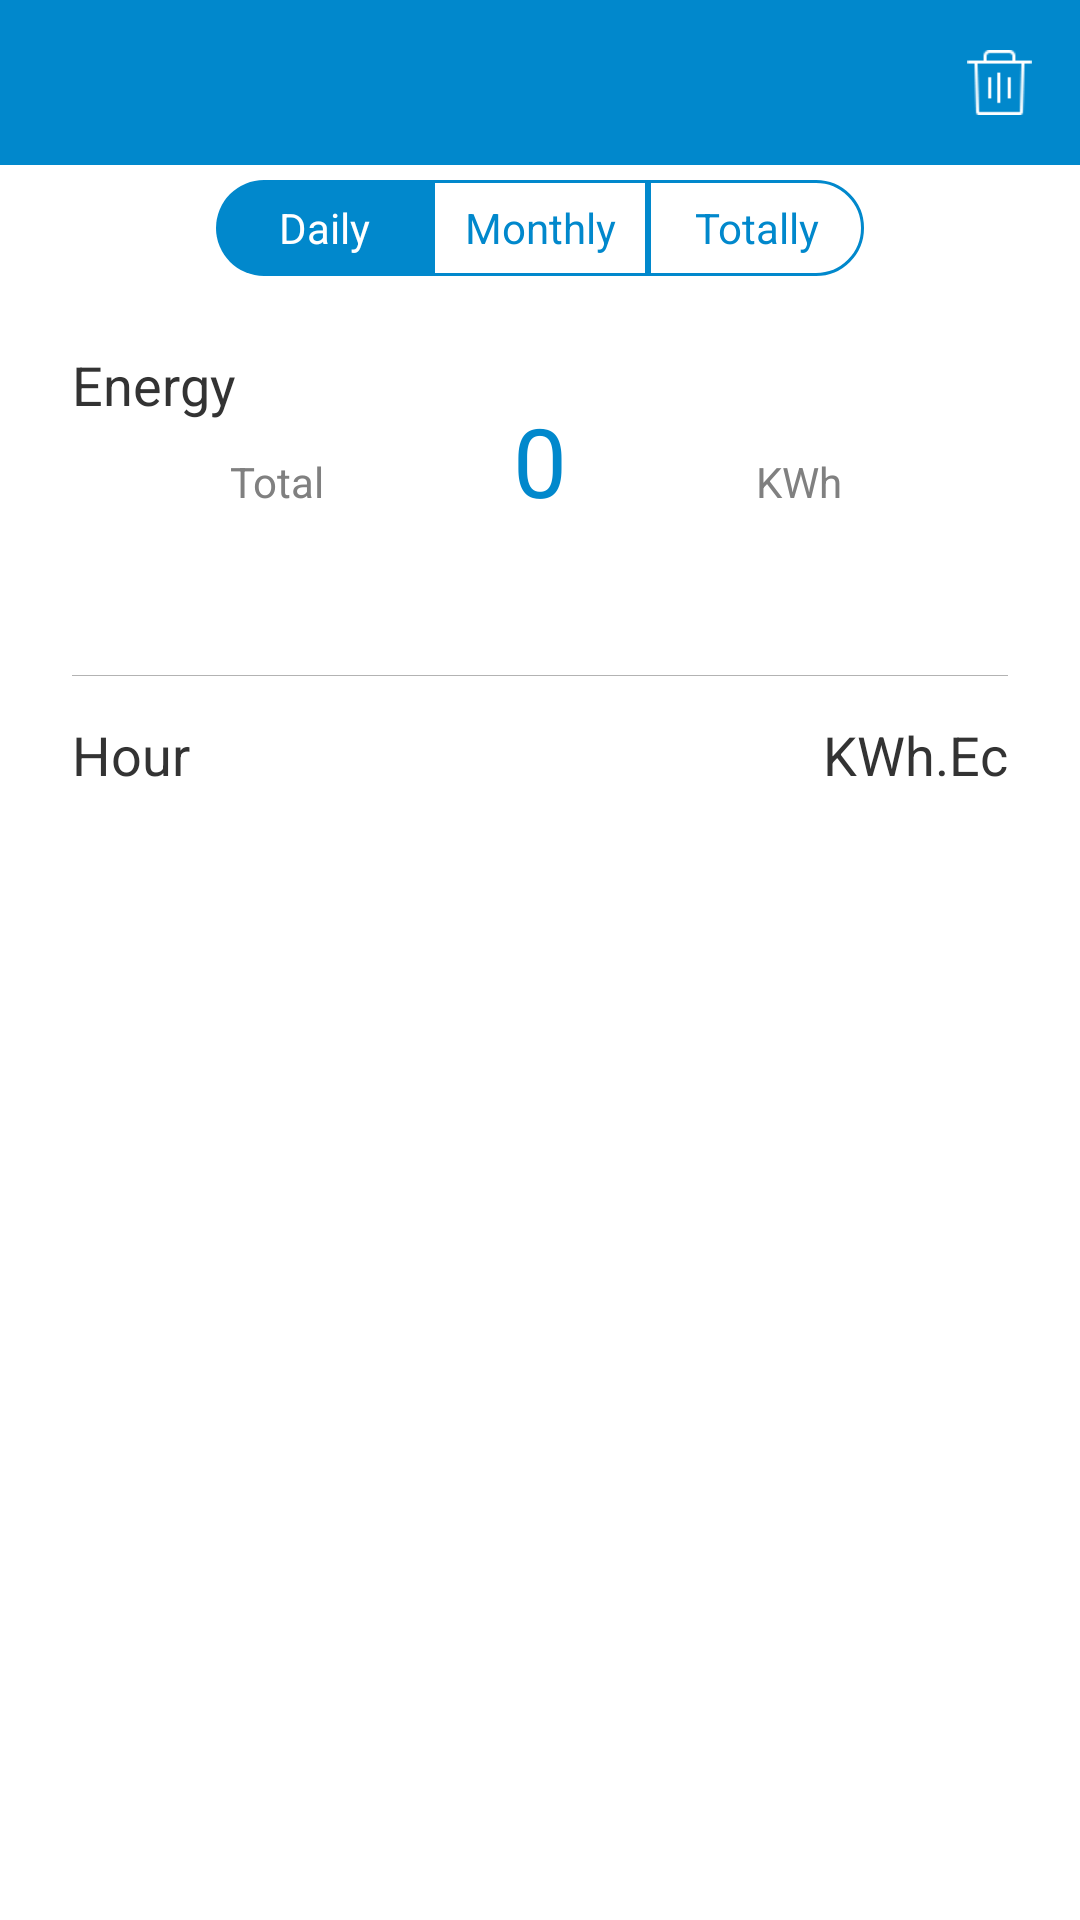

Icon bounding boxes for this 1080*1920 phone screenshot, format (x1, y1, x2, y2):
empty: (967, 50, 1032, 115)
